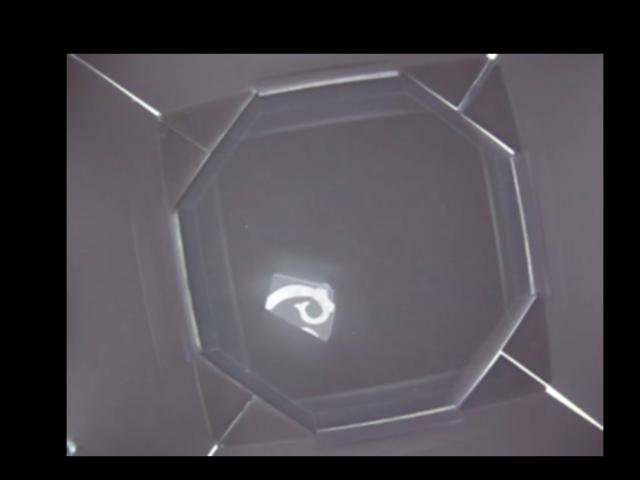China: (264, 273, 337, 340)
